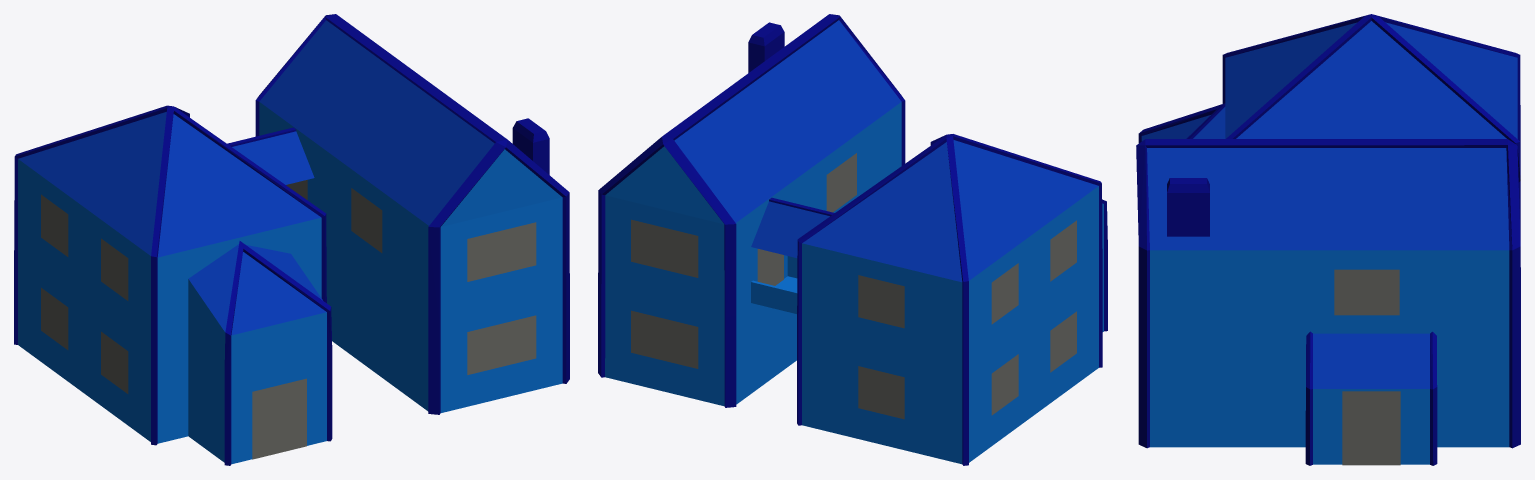
Rendered from House-Snow-L-2.fbx.
3 views of the same model, side by side, from view 1: azimuth 30°, elevation 25°; view 2: azimuth 150°, elevation 25°; view 3: azimuth 270°, elevation 25° (orthographic). The views are drawn at different scales.
Visible parts, largest first — view 1: House-Snow-L-2; view 2: House-Snow-L-2; view 3: House-Snow-L-2.
Boxes of the visible parts, bbox=[...] form: House-Snow-L-2: bbox=[14, 14, 569, 465]; House-Snow-L-2: bbox=[598, 14, 1107, 465]; House-Snow-L-2: bbox=[1136, 14, 1520, 465].
Size of the model in its own units: 1214 by 743 by 921.
